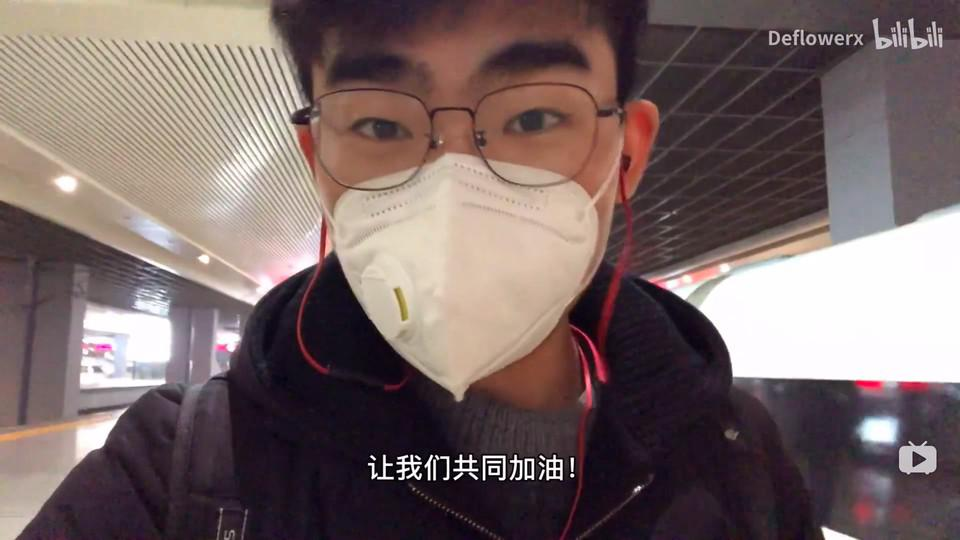OK: (308, 22, 632, 378)
